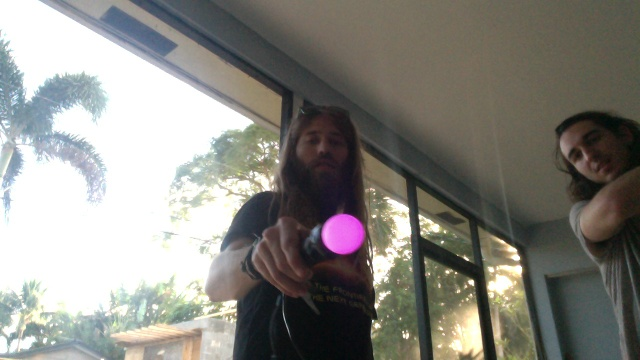wand: (322, 216, 366, 254)
